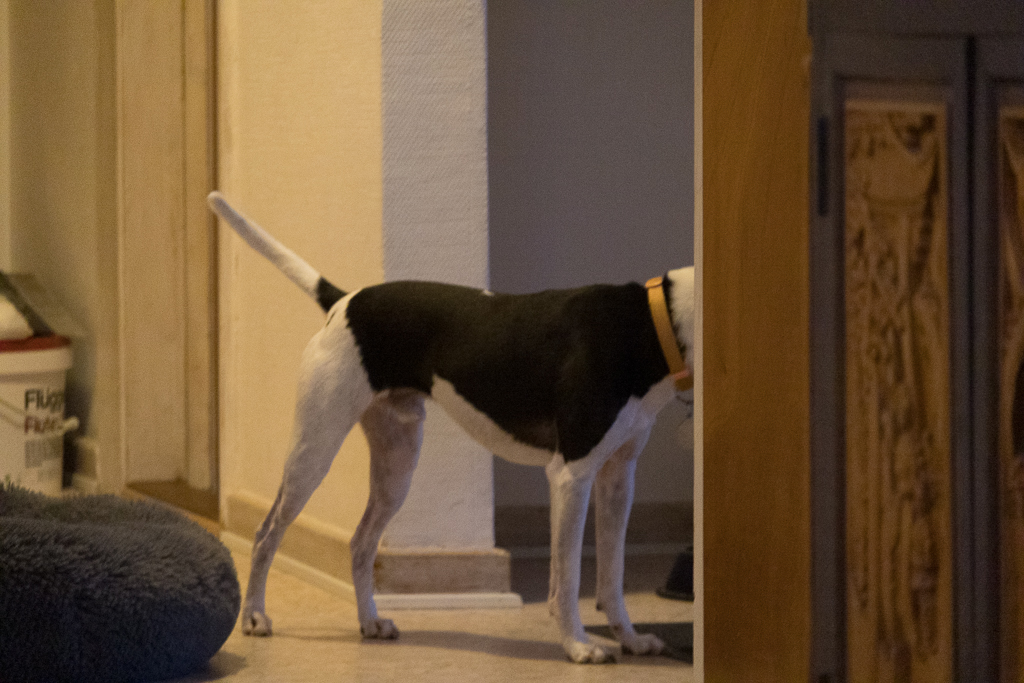Dog: (190, 177, 712, 672)
